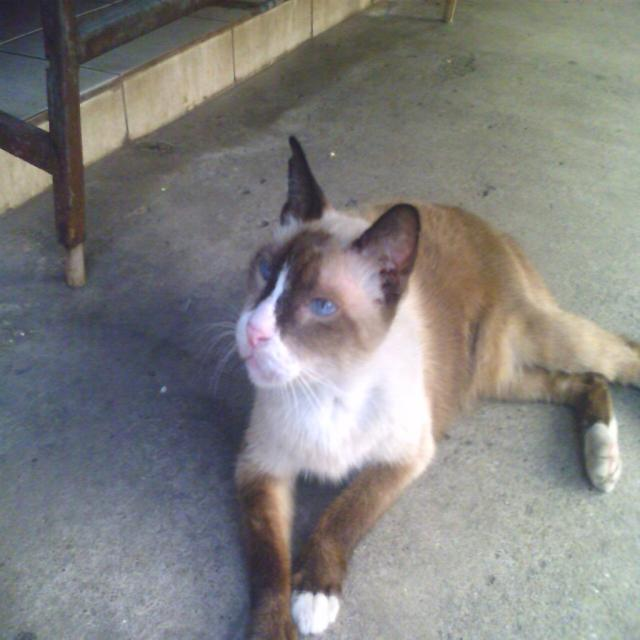Cat: (187, 132, 638, 639)
